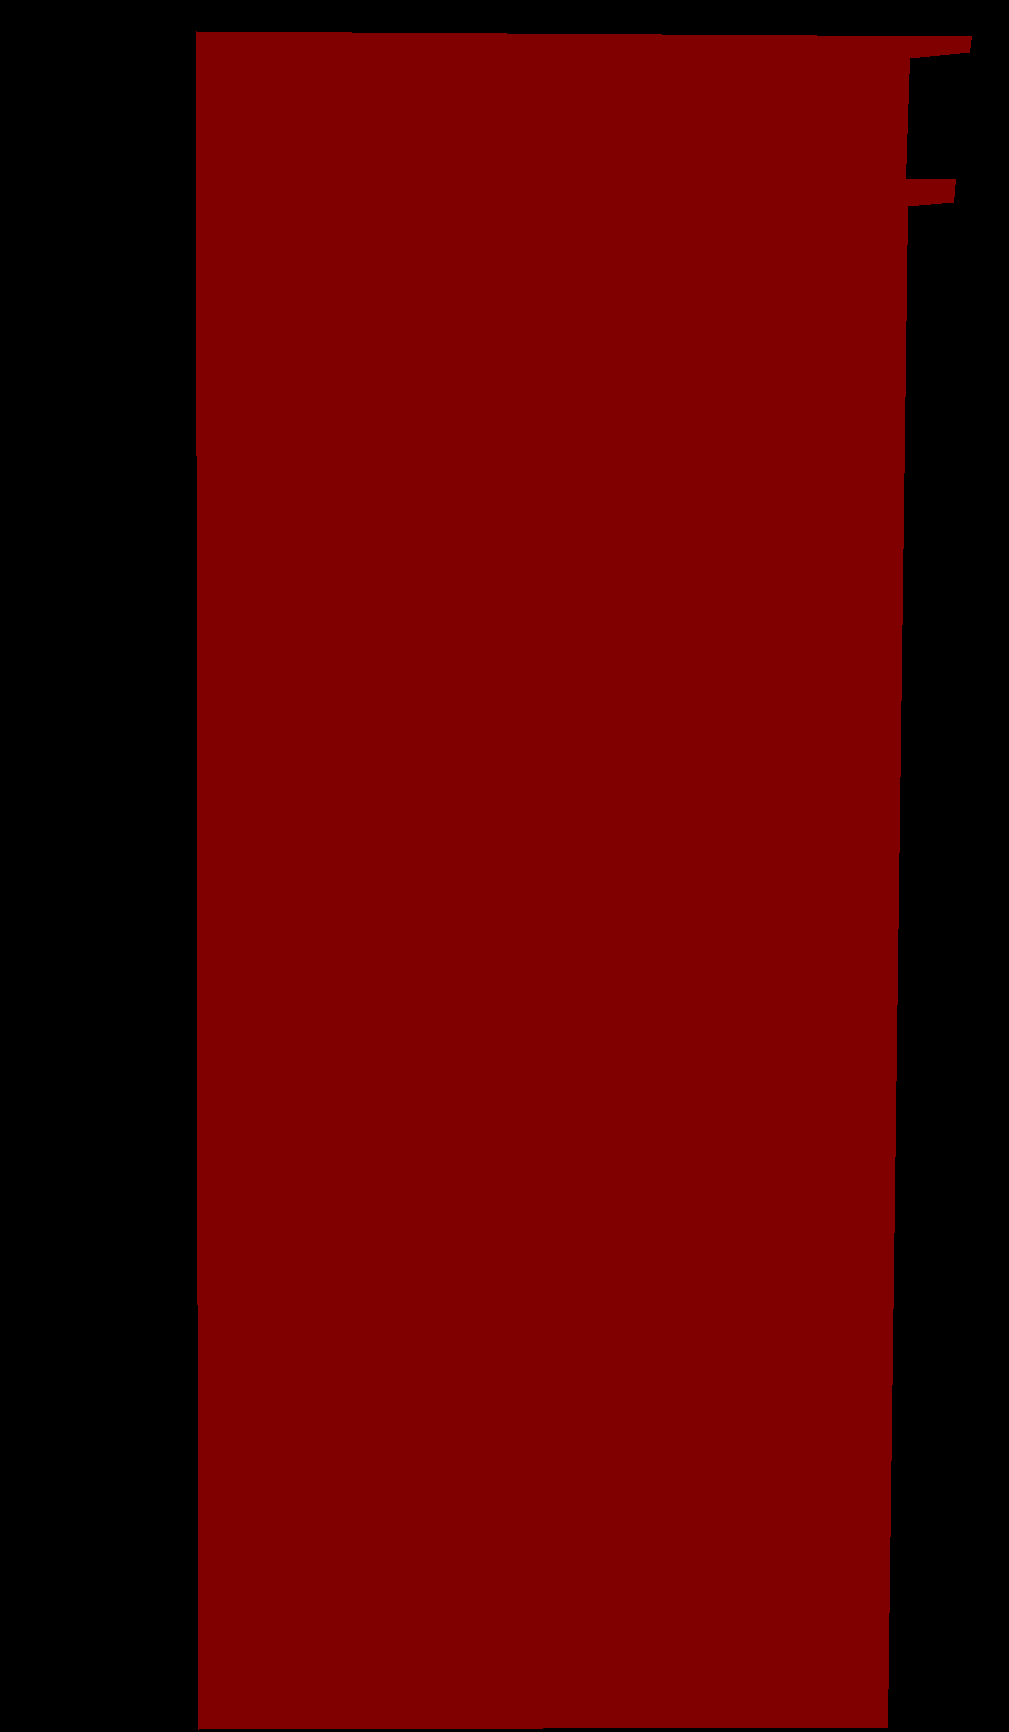sign: (196, 31, 971, 1730)
